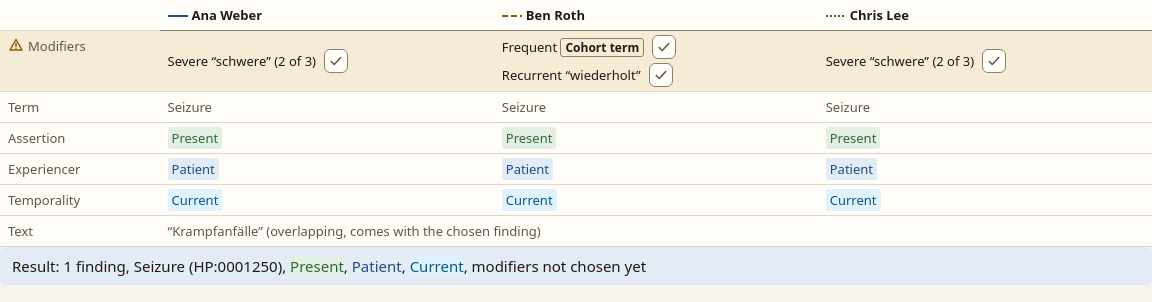
Test: ComparisonTable, Modifiers row › one toggle per modifier per cell, named in words; identical modifiers press together
Click the button named "Take Severe “schwere” from Ana Weber for Modifiers (2 of 3)" at (336, 61), box left=324, top=49, right=348, bottom=73
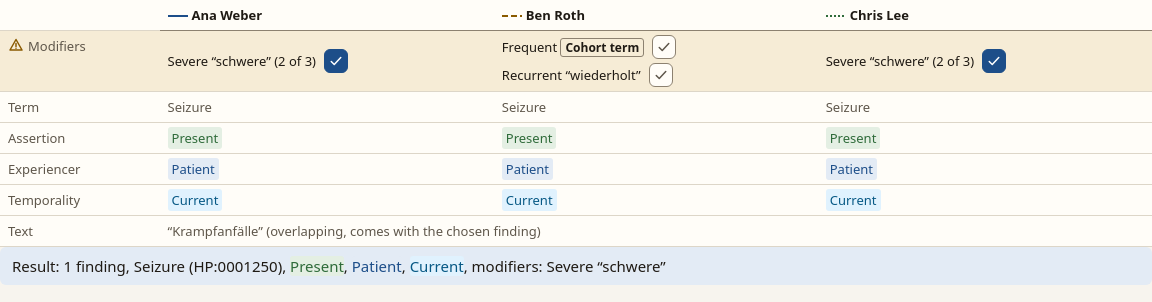
Expected: the element with class "cons-result" shows "modifiers: Severe “schwere”", left=472, top=256, right=666, bottom=276
